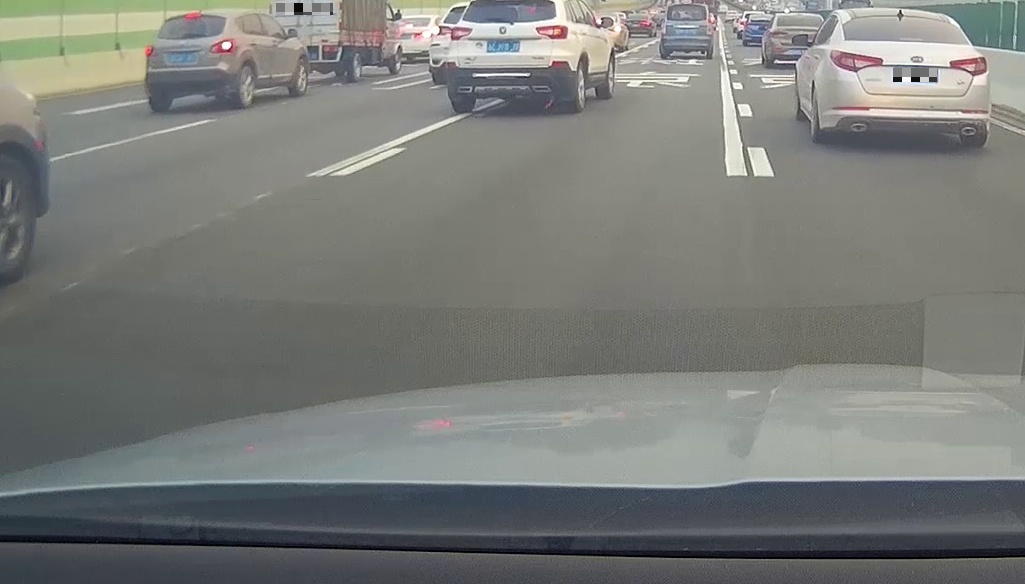L_light: (829, 49, 883, 72), (145, 46, 158, 56), (662, 23, 666, 34)
R_light: (950, 57, 987, 76), (209, 39, 234, 54), (707, 23, 711, 33)
T_light: (900, 37, 923, 41), (185, 14, 200, 18), (683, 6, 691, 7)
day-brake: (145, 13, 235, 113)
day-no: (826, 12, 990, 148), (661, 4, 713, 59)
plate_1: (276, 3, 333, 15)
plate_2: (893, 68, 937, 82)
